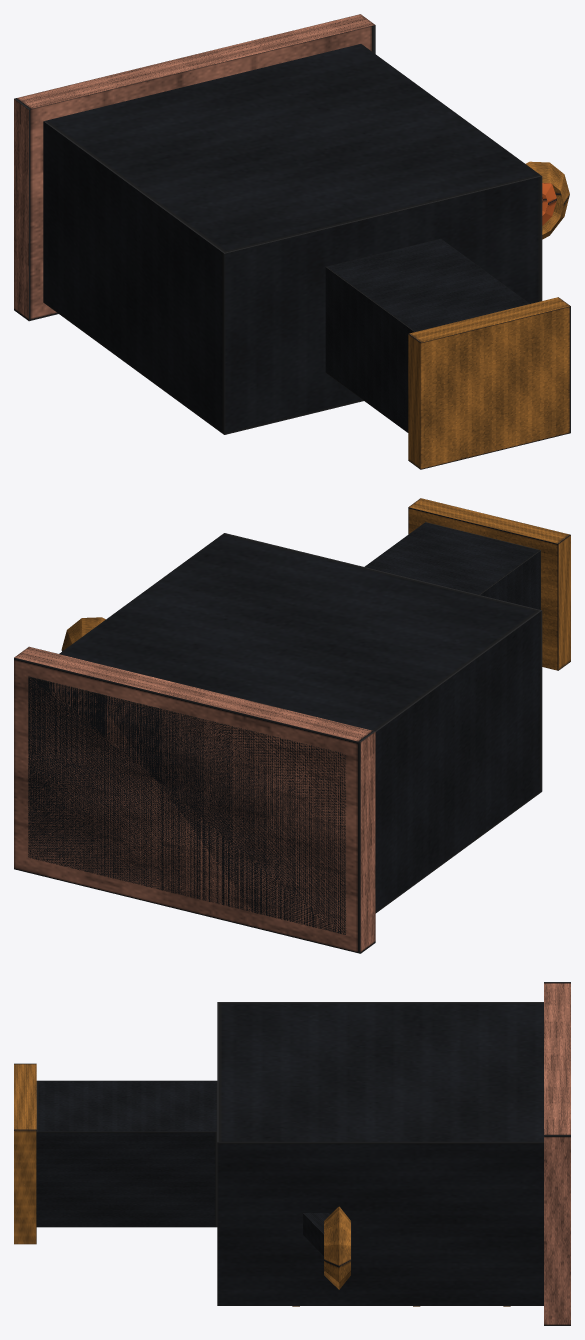
Rendered from ashbell_casting_furnace.obj.
3 renders of one model, top to bottom at view 1: azimuth 30°, elevation 25°; view 2: azimuth 150°, elevation 25°; view 3: azimuth 270°, elevation 25°, orthographic. The views are drawn at different scales.
Parts seen in each view (by area): view 1: ashbell_casting_furnace; view 2: ashbell_casting_furnace; view 3: ashbell_casting_furnace.
Part boxes in pixels (x1,y1,x2,y2): ashbell_casting_furnace: (14,14,570,469); ashbell_casting_furnace: (14,498,570,953); ashbell_casting_furnace: (14,982,570,1325).
Size of the model in its own units: 2.96 by 1.4 by 3.7.
Materials: 4 (4 with a texture image).
